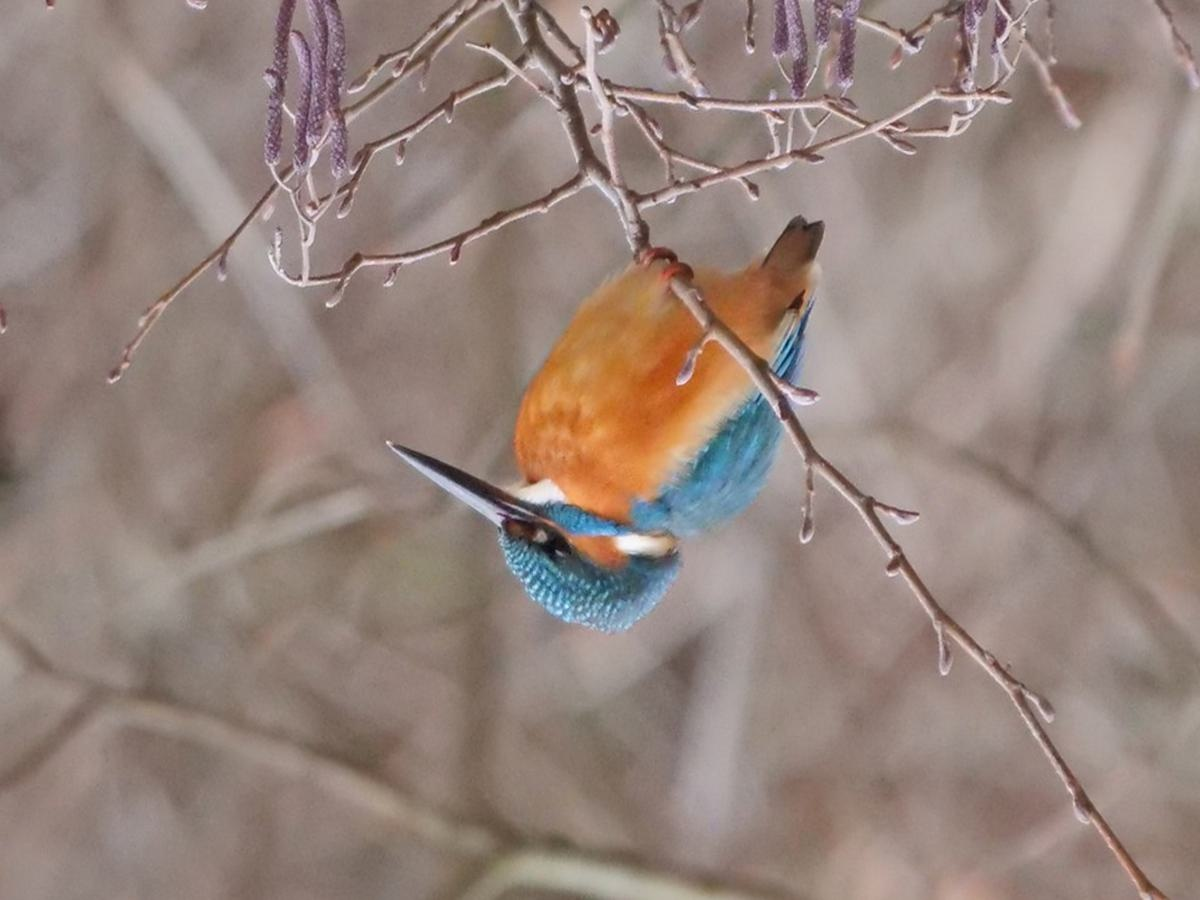kingfisher: (420, 226, 814, 652)
